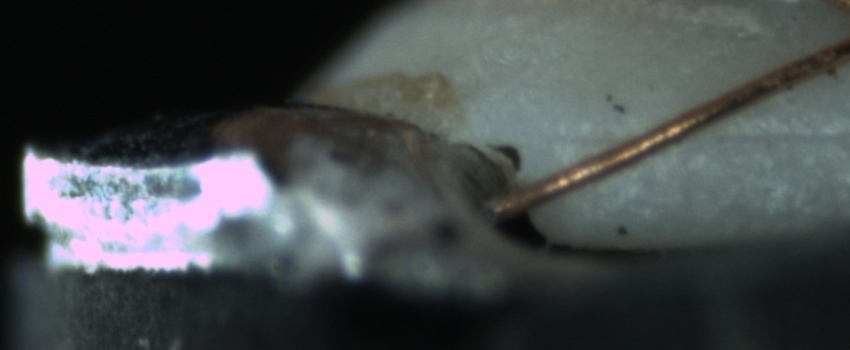DL: (564, 105, 847, 168)
